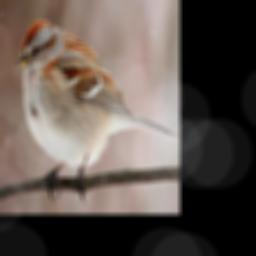Sparrow: (17, 19, 179, 203)
